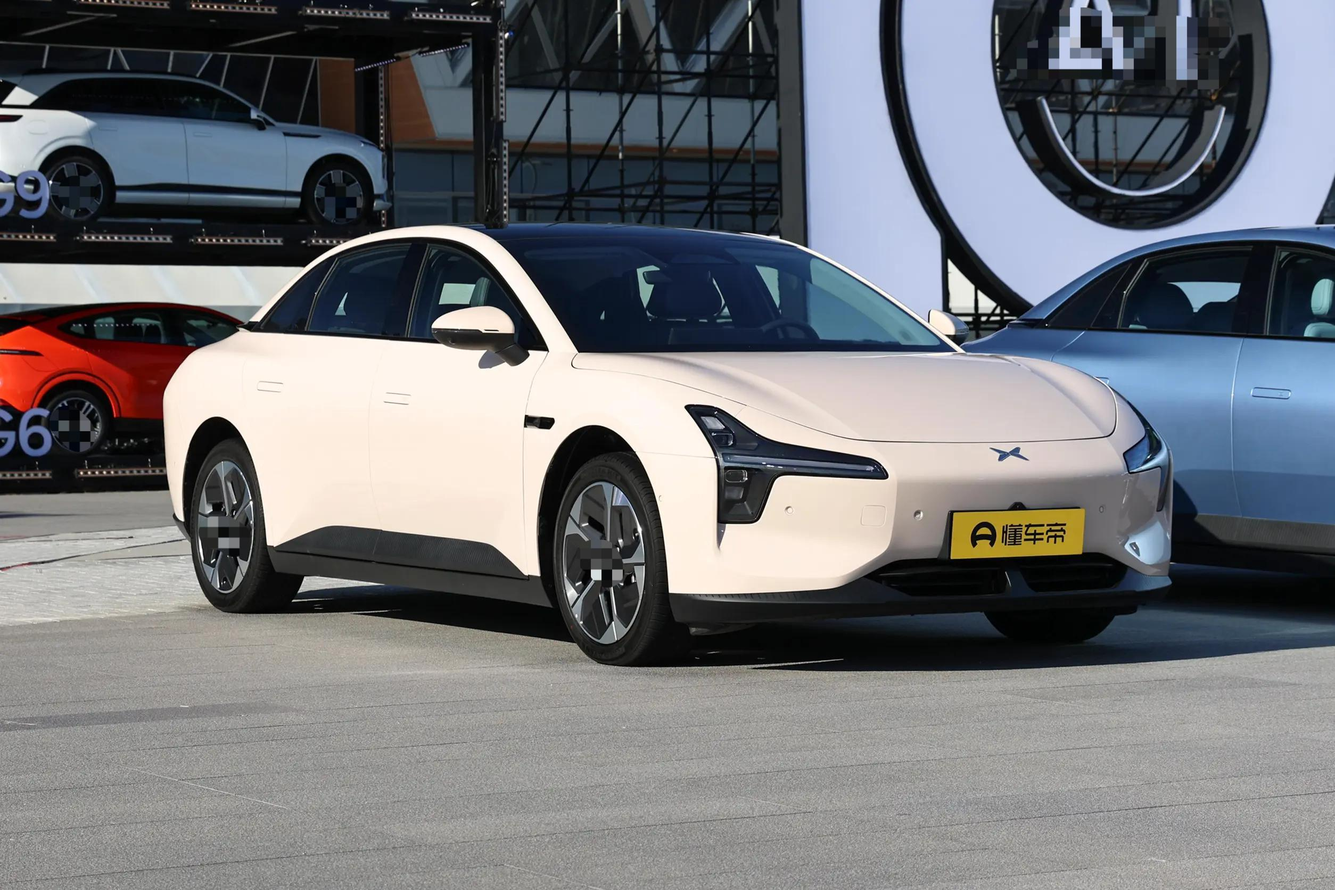XPeng Motors: (989, 447, 1029, 462)
